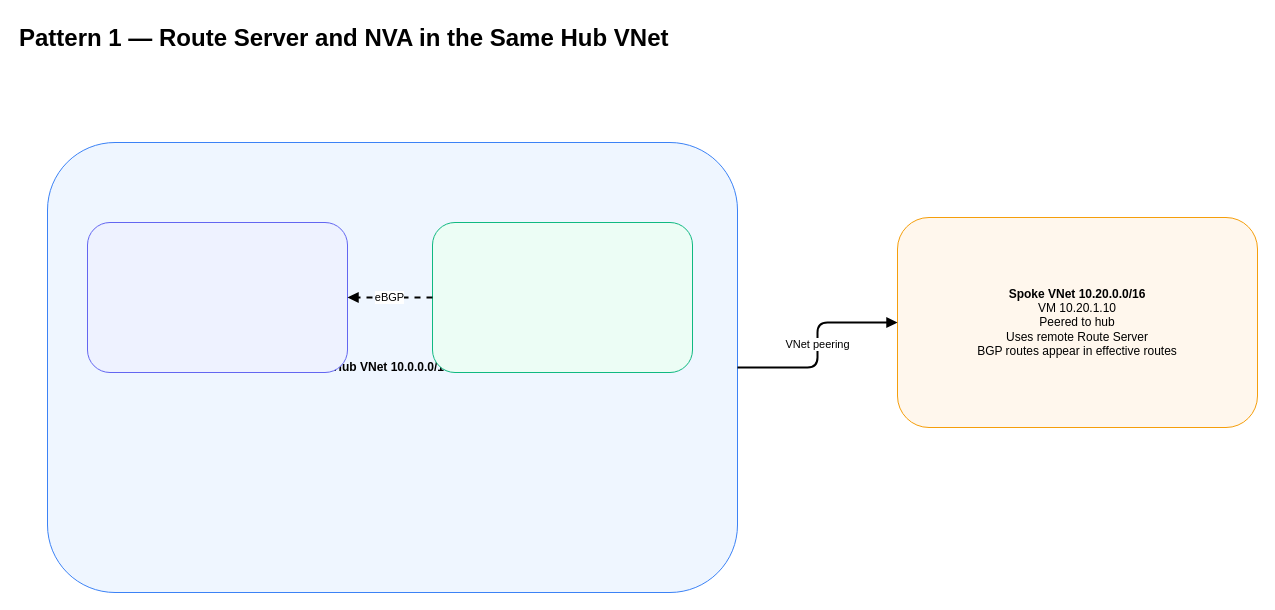
Some shapes in this 1275 by 610 pixel diagram are drawn without their labels. Here are the shapes that lost their labels. From the top down, the centre of each, then its label:
the point at 217,297: RouteServerSubnet 10.0.1.0/26 Azure Route Server ASN 65515
the point at 562,297: NVA subnet 10.0.2.0/24 NVA 10.0.2.4 ASN 65001
